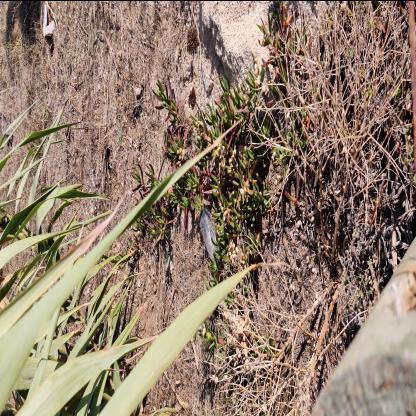plastik: (196, 196, 221, 262)
